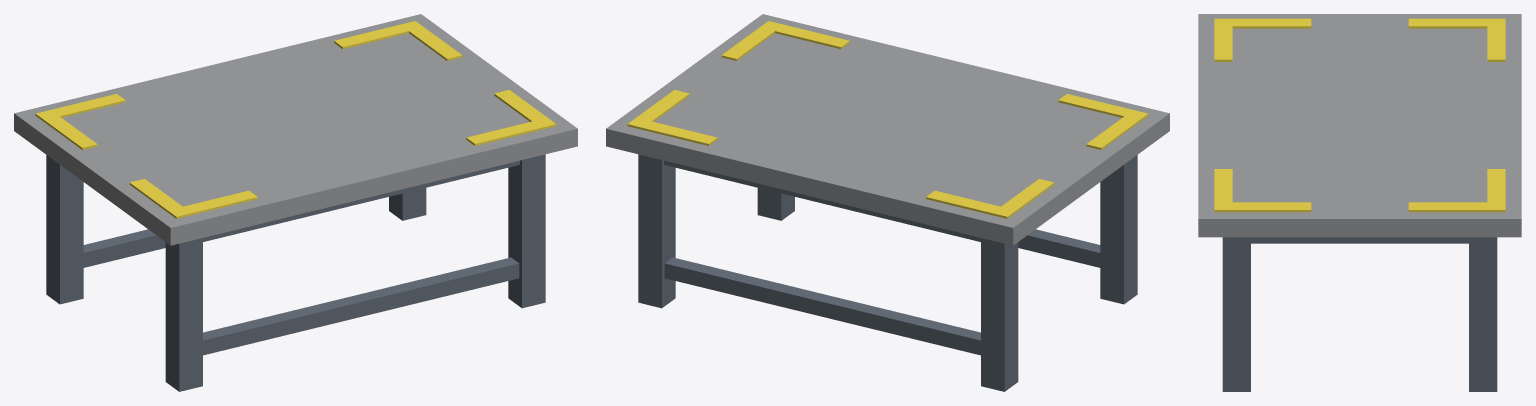
File: BufferBox.fbx
3 renders of one model, left to right at view 1: azimuth 30°, elevation 25°; view 2: azimuth 150°, elevation 25°; view 3: azimuth 270°, elevation 25°, orthographic. The views are drawn at different scales.
Visible parts, largest first — view 1: BufferBox; view 2: BufferBox; view 3: BufferBox.
Part boxes in pixels (x1,y1,x2,y2): BufferBox: [14, 14, 577, 391]; BufferBox: [606, 14, 1169, 391]; BufferBox: [1198, 14, 1521, 391].
Bounding box in the file's own units: 1.2 × 0.506 × 0.8.
